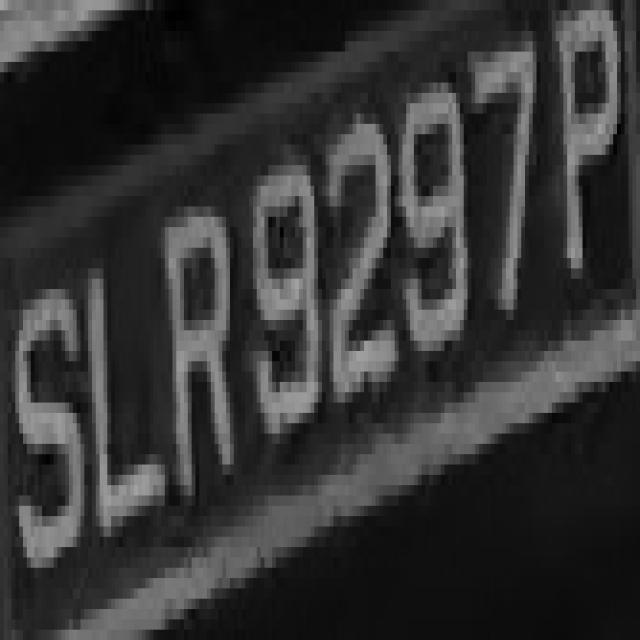2: (306, 93, 402, 423)
7: (456, 21, 544, 340)
9: (383, 51, 475, 372), (245, 145, 326, 454)
L: (76, 238, 165, 547)
P: (552, 11, 628, 300)
R: (157, 196, 242, 506)
S: (4, 268, 88, 609)
